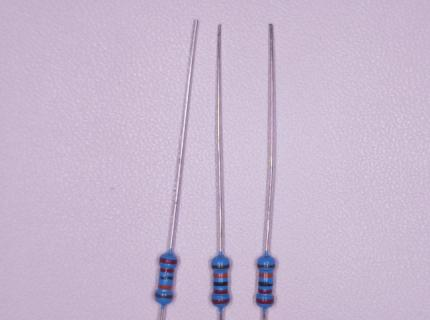Black band: (213, 281, 228, 286), (159, 275, 174, 280), (259, 281, 273, 286)
Brown band: (155, 292, 174, 299), (211, 264, 229, 269), (257, 264, 275, 268)
Orange band: (158, 284, 173, 290), (213, 273, 227, 278), (259, 273, 273, 277)
Red band: (159, 257, 177, 264), (211, 298, 230, 304), (256, 298, 274, 304), (159, 267, 174, 273), (213, 289, 228, 294), (258, 289, 272, 294)
